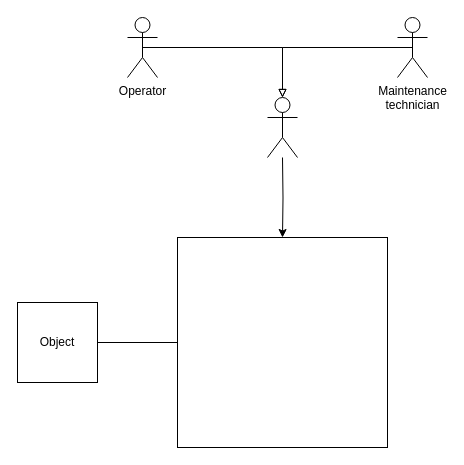
The diagram is 464 pixels wide and 465 high, and some of its shapes have lost their labels. The centre of each missing label's shape, as x and y in pixels:
"Human interactors" belongs at (x=282, y=127).
"Moveo Robotic Arm" belongs at (x=282, y=342).
